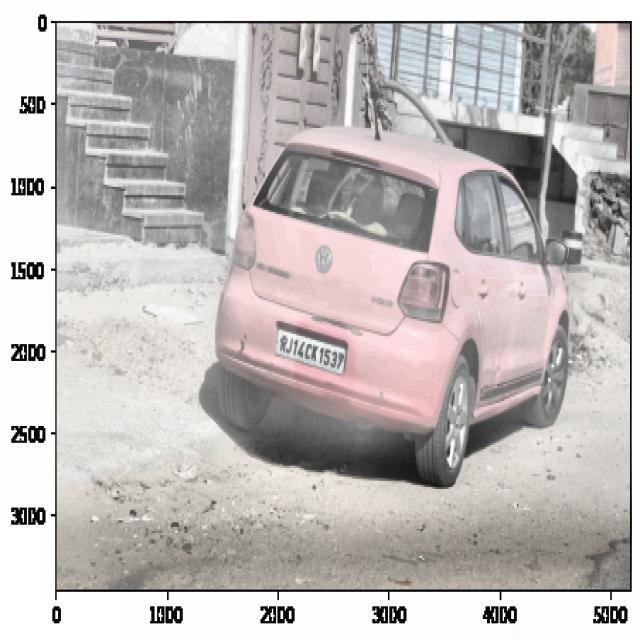license_plate: (275, 326, 349, 374)
